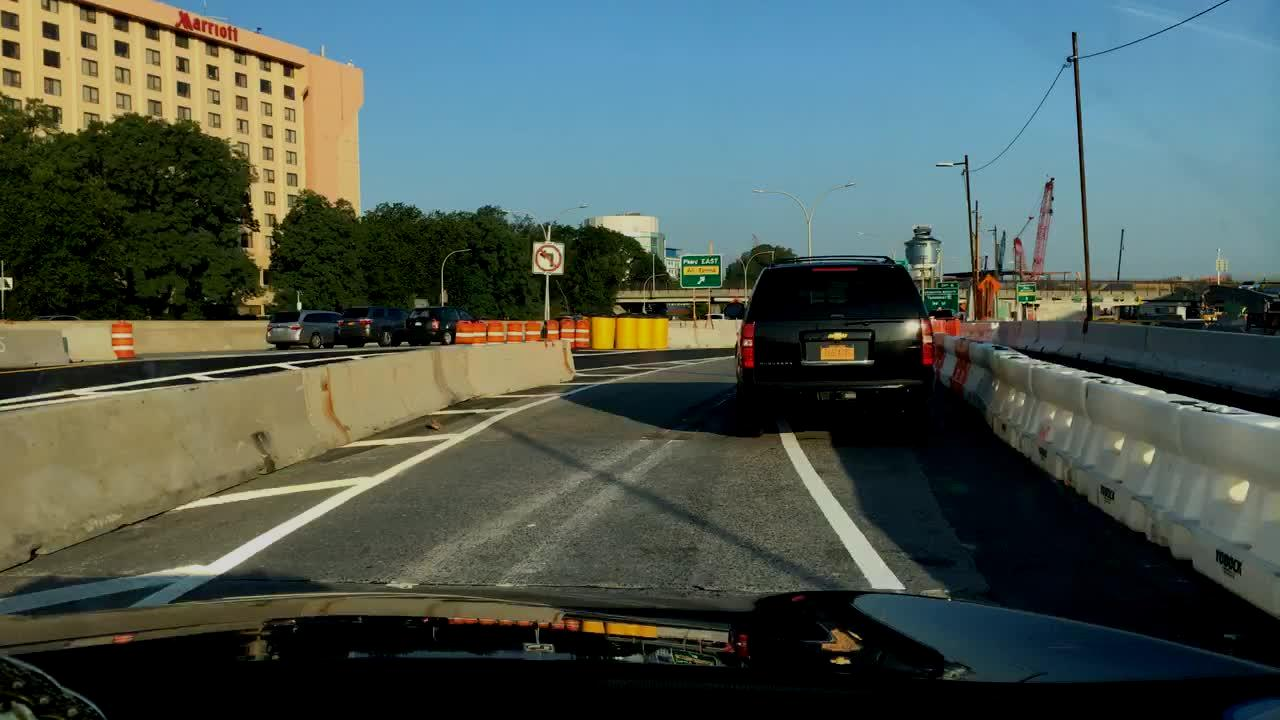chevrolet: (820, 330, 853, 343)
